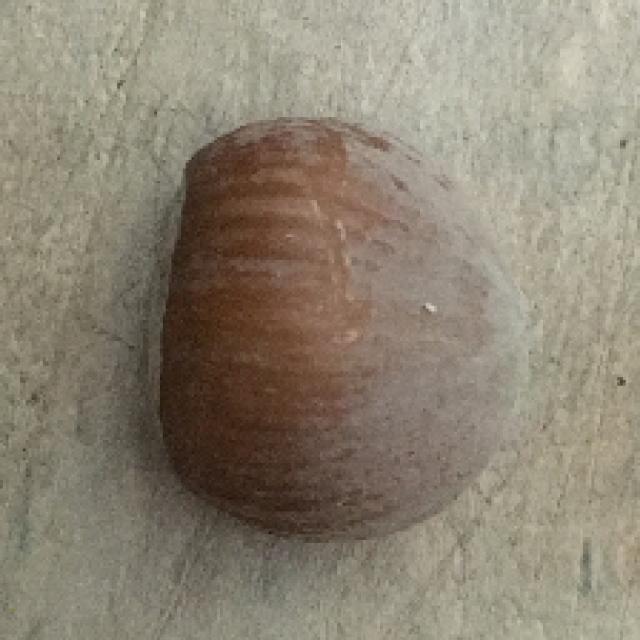qualityHazelnut: (149, 106, 539, 539)
